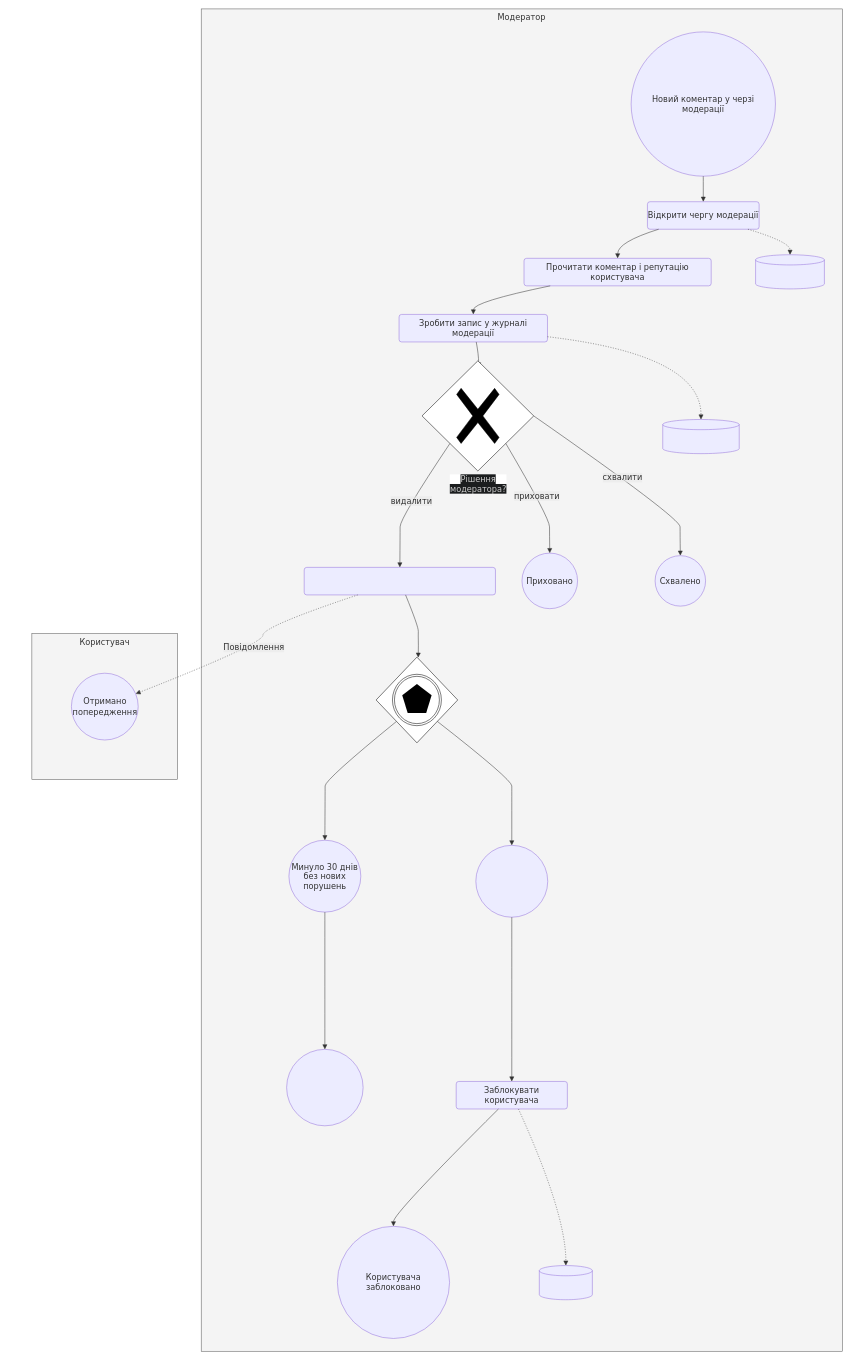
Some shapes in this 851 by 1360 pixel diagram are drawn without their labels. Each missing label, with the centre of its shape:
"Видалити коментар і надіслати попередження" goes at point 399,581.
"Журнал модерації" goes at point 700,436.
"Користувачі" goes at point 565,1282.
"Надійшла нова скарга на користувача" goes at point 511,881.
"Повторного порушення немає, попередження знято" goes at point 324,1087.
"Черга модерації" goes at point 789,271.
